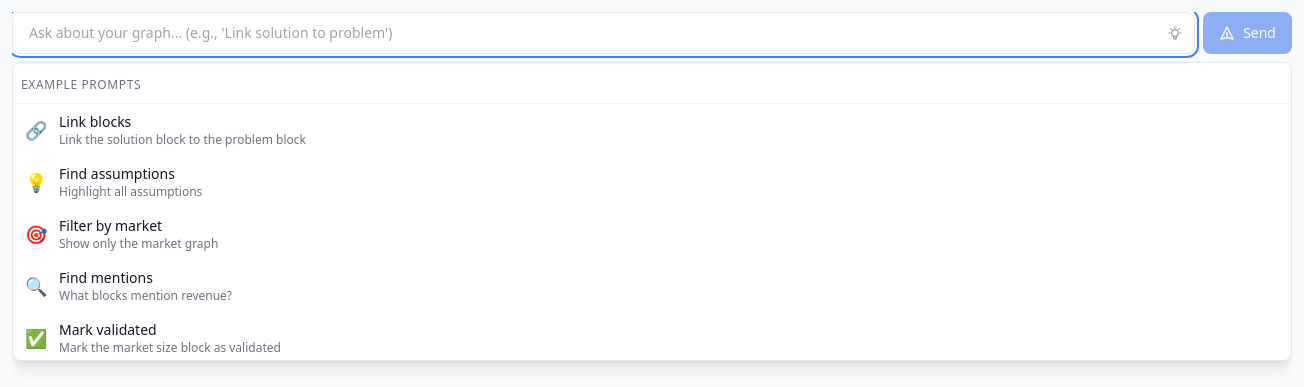
it: GraphPrompt › T5.1.4: Loading State During Processing › should disable input during loading
Step 1. Type "Test prompt" into the field with test id "graph-prompt-input" → (604, 33), box [12,12,1195,54]
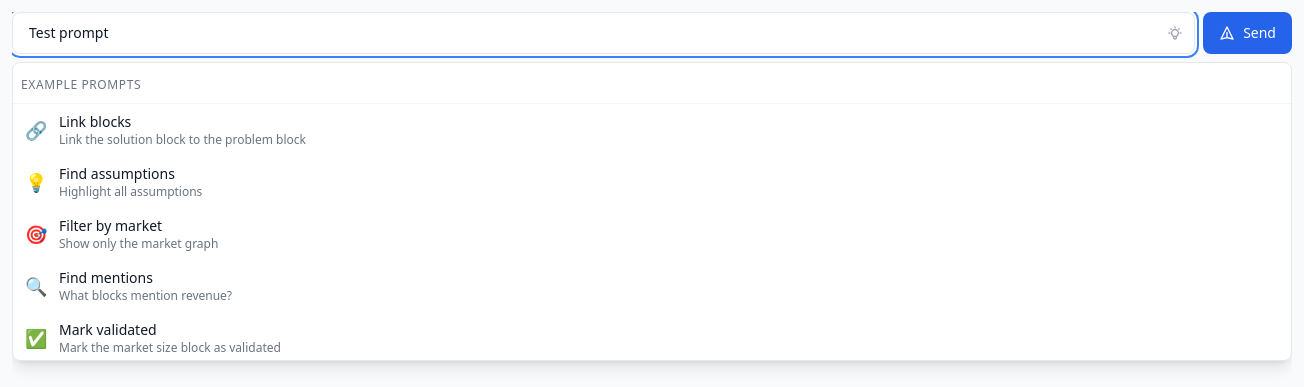
Step 2. Click the button with test id "graph-prompt-submit" → click(1248, 33), box [1203,12,1292,54]
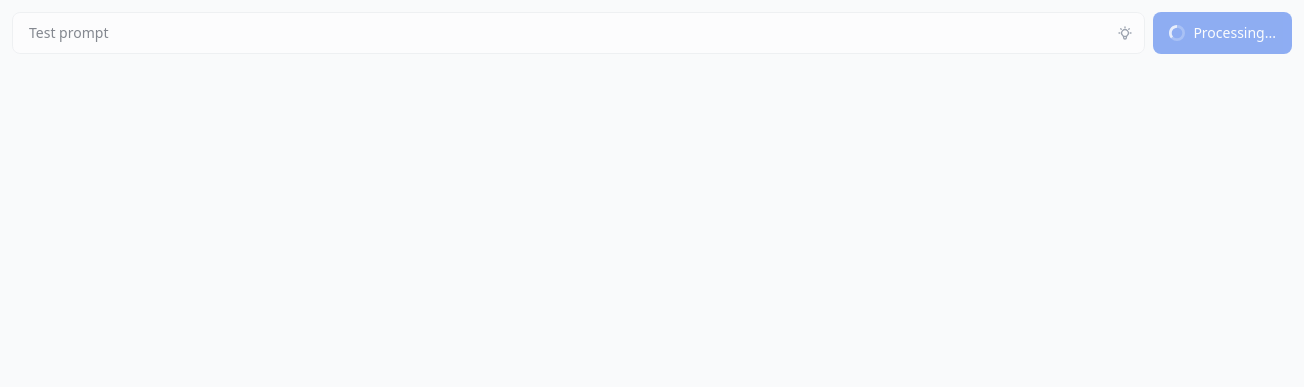
Now the field with test id "graph-prompt-input" is disabled, box [12,12,1145,54]
